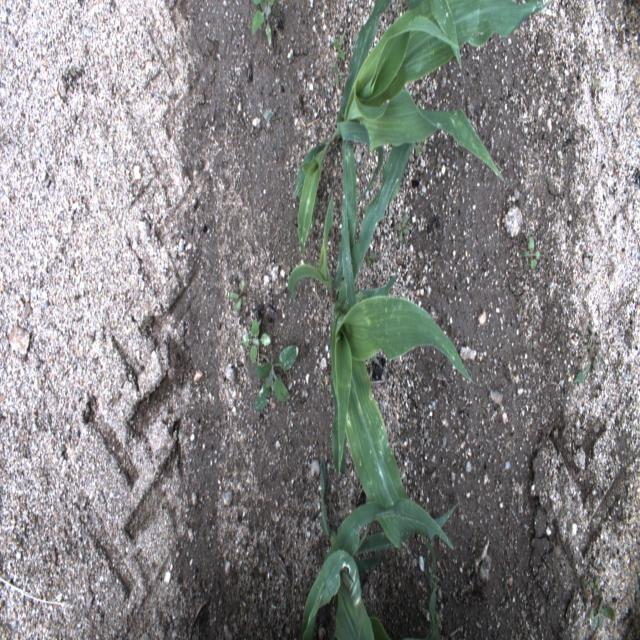crop: (287, 143, 473, 549), (291, 0, 553, 265), (299, 453, 454, 640), (424, 536, 441, 639)
weed: (252, 340, 304, 414), (237, 318, 273, 369), (574, 331, 603, 385), (328, 28, 349, 93), (251, 3, 275, 52), (520, 228, 545, 272), (226, 274, 252, 312), (396, 206, 412, 248)
